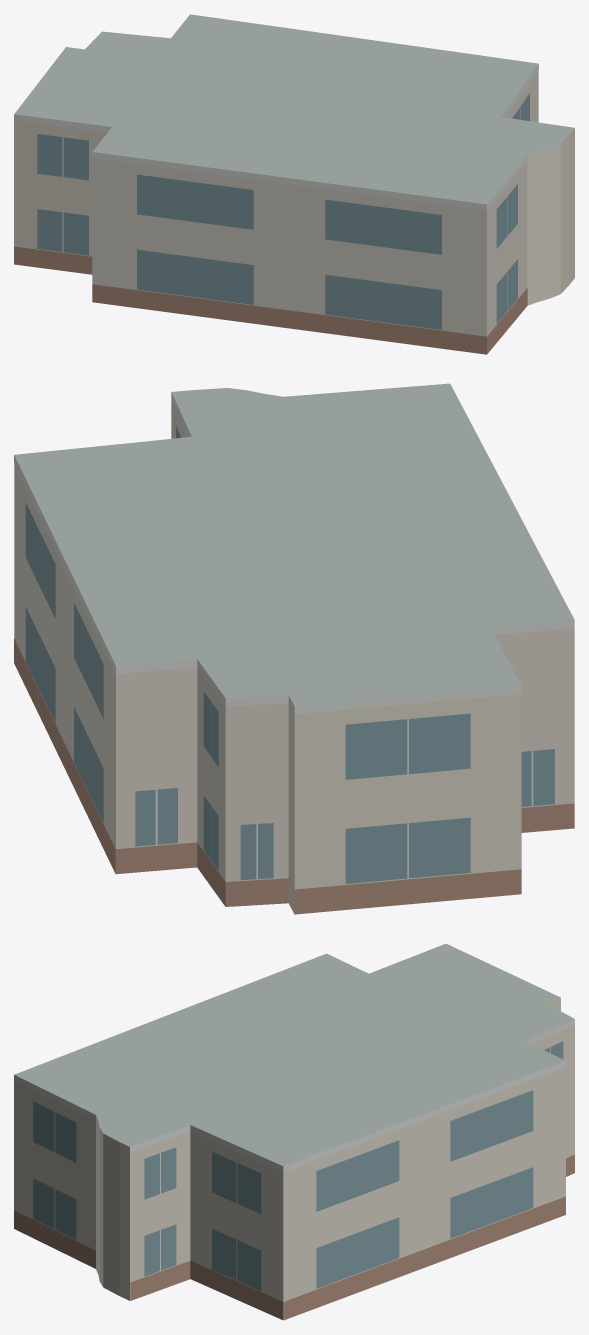
The model's file is survey-upis-33010534.glb.
3 renders of one model, top to bottom at view 1: azimuth 30°, elevation 25°; view 2: azimuth 150°, elevation 25°; view 3: azimuth 270°, elevation 25°, orthographic. The views are drawn at different scales.
Parts seen in each view (by area): view 1: survey-upis-33010534.tmp; view 2: survey-upis-33010534.tmp; view 3: survey-upis-33010534.tmp.
Boxes of the visible parts, left/top/right/bottom form: survey-upis-33010534.tmp: left=14, top=14, right=574, bottom=354; survey-upis-33010534.tmp: left=14, top=383, right=574, bottom=914; survey-upis-33010534.tmp: left=14, top=943, right=574, bottom=1320.
Bounding box in the file's own units: 18.93 × 6.1 × 20.13.
